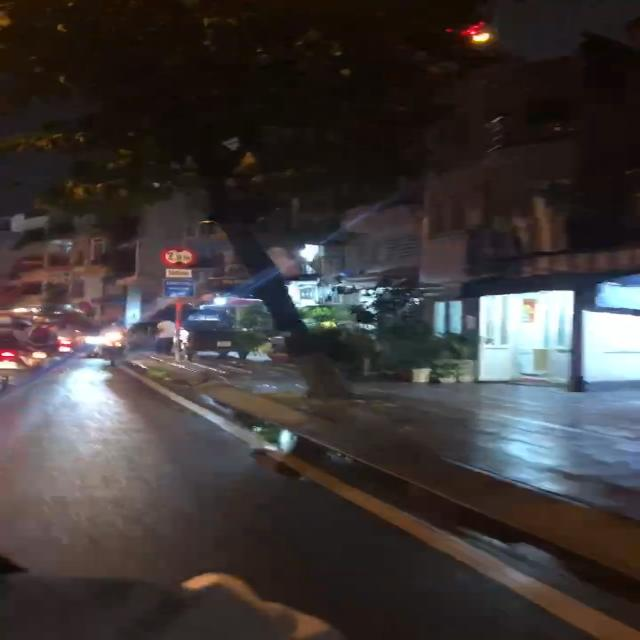Bien bao han che chieu cao: (157, 242, 200, 268)
